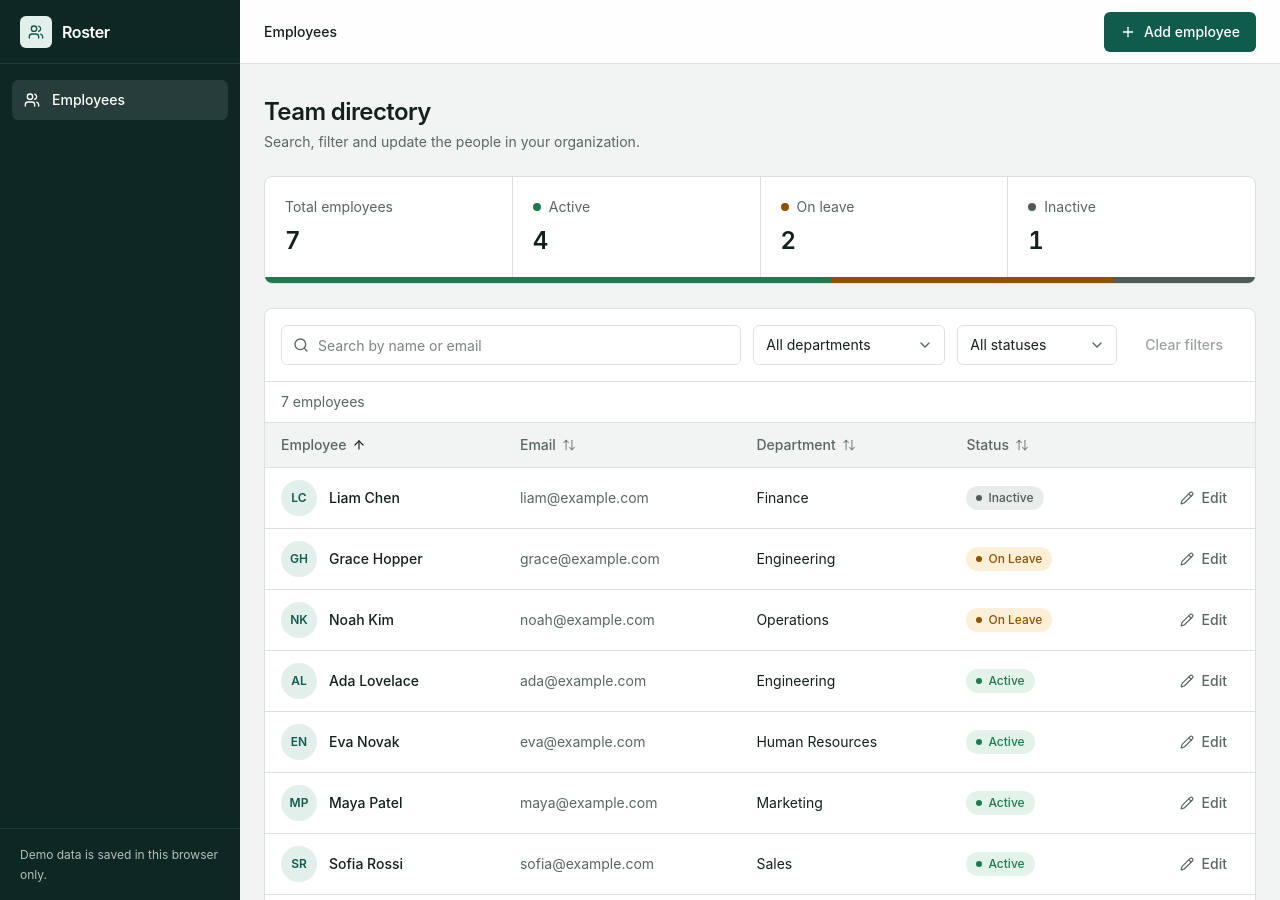
Test: EmployeesPage: edit › allows keeping the same email but blocks another employee’s email
Expected: the text "Ada Lovelace" is shown, [329,671,419,691]
Step 1. Click the button with aria-label "Edit Ada Lovelace" → (1203, 681), box [1168,665,1239,697]
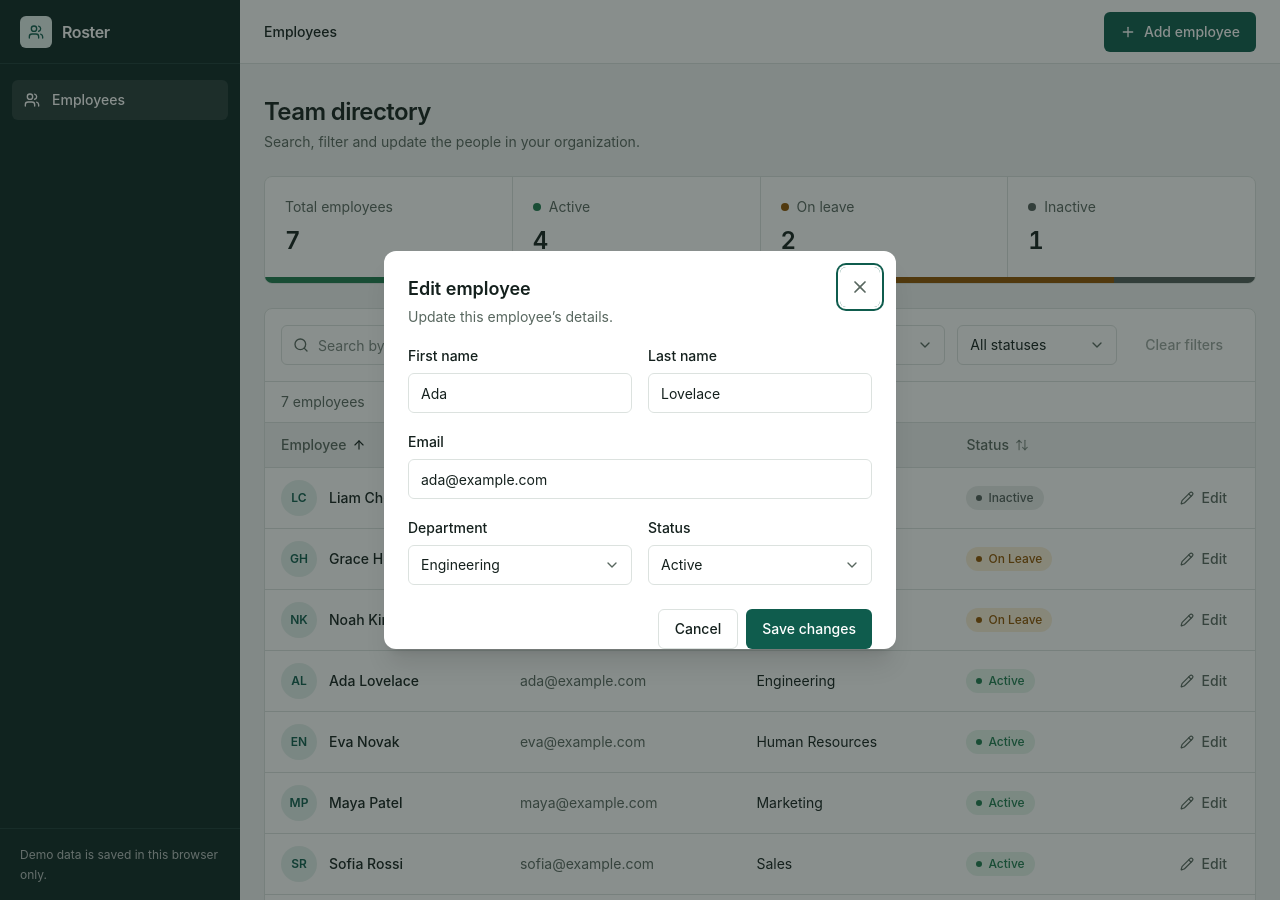
Step 2. Replace the text in the field labelled "Email" with "GRACE@example.com" → (640, 479), box [408,459,872,499]
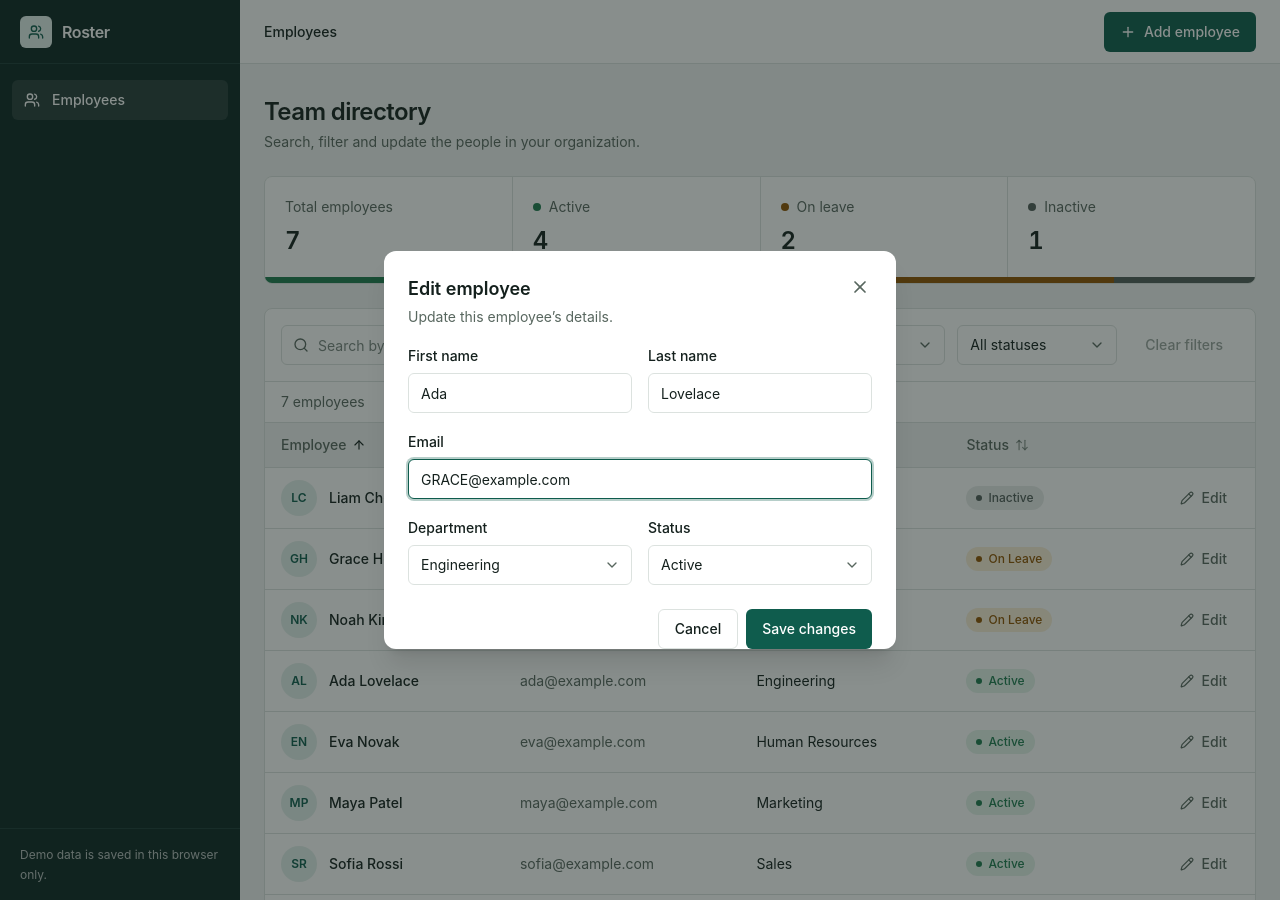
Step 3. Click the button "Save changes" → (809, 629), box [746,609,872,649]
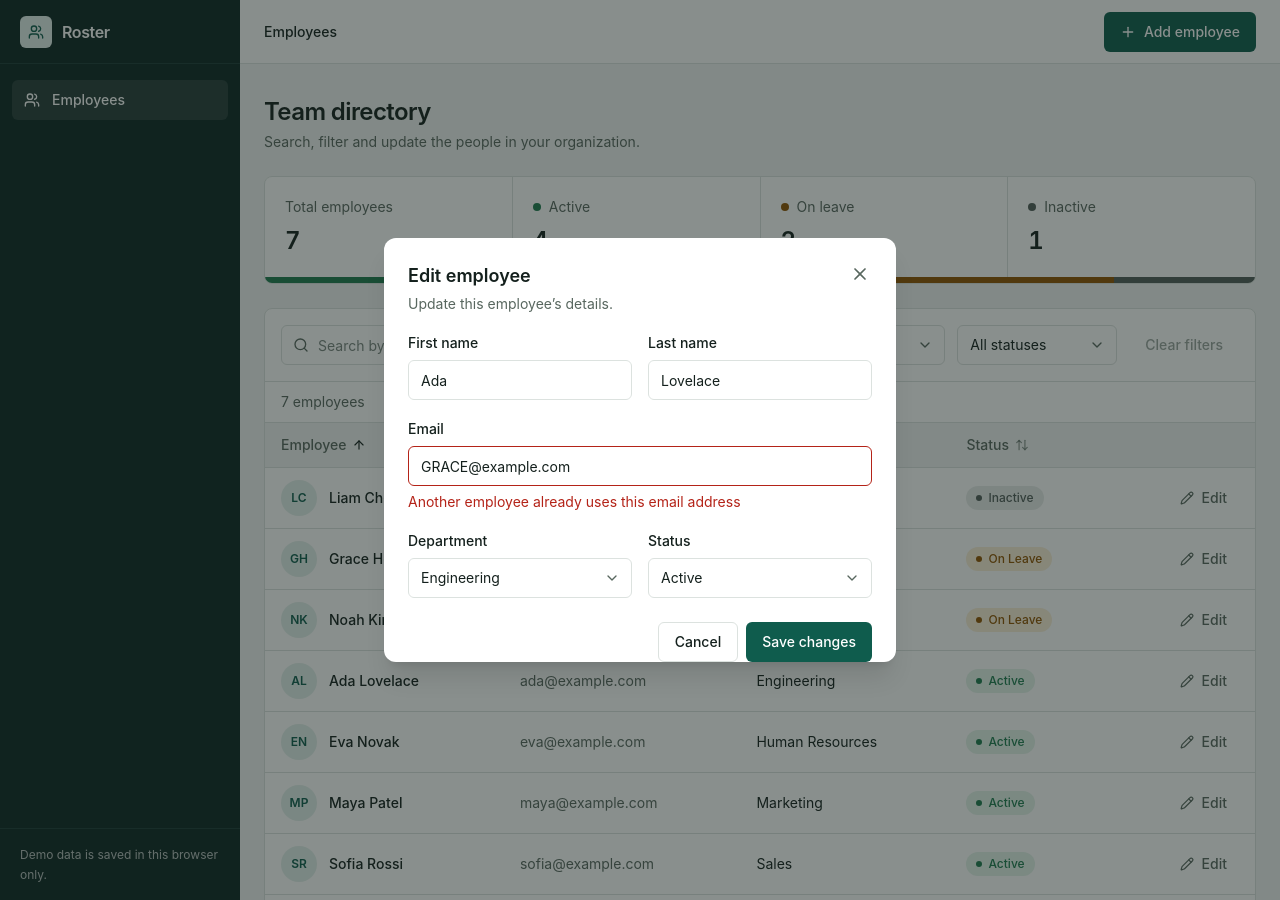
Expected: the text "Another employee already uses this email address" is shown, [408,493,740,510]
